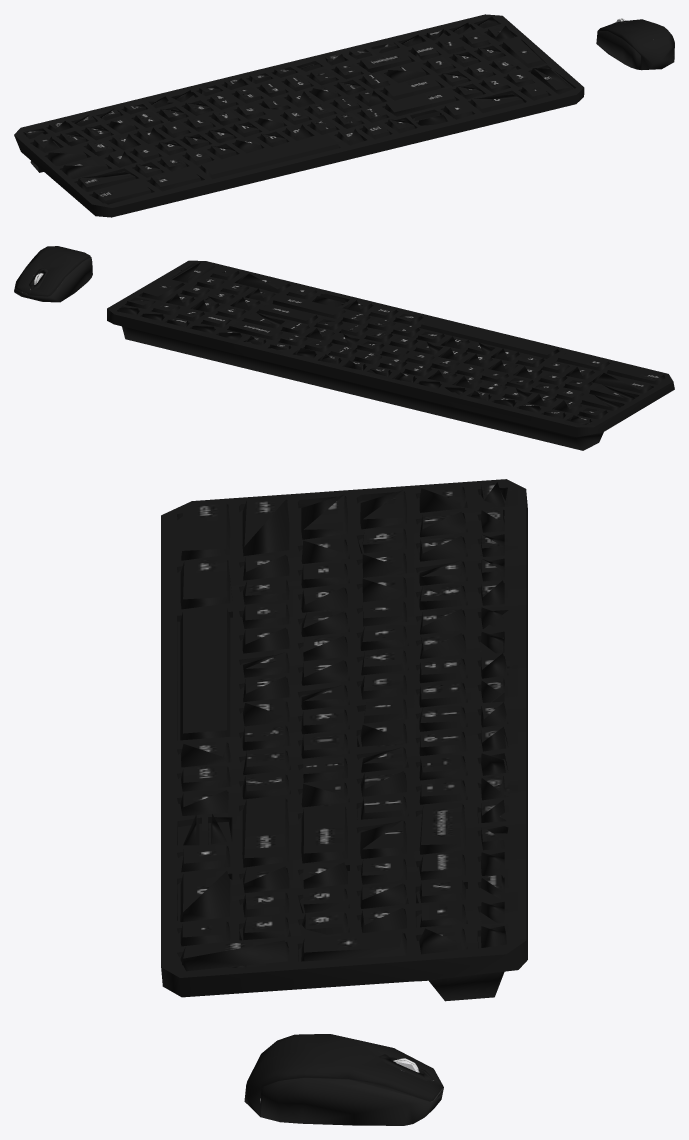
Rendered from keyboard_mouse_black.glb.
3 renders of one model, top to bottom at view 1: azimuth 30°, elevation 25°; view 2: azimuth 150°, elevation 25°; view 3: azimuth 270°, elevation 25°, orthographic. The views are drawn at different scales.
Visible parts, largest first — view 1: keyboard.001, mouse.001; view 2: keyboard.001, mouse.001; view 3: keyboard.001, mouse.001.
Part boxes in pixels (bbox=[...]): keyboard.001: bbox=[14, 14, 584, 217]; mouse.001: bbox=[596, 18, 674, 70]; keyboard.001: bbox=[107, 260, 674, 450]; mouse.001: bbox=[14, 246, 92, 302]; keyboard.001: bbox=[161, 479, 527, 1001]; mouse.001: bbox=[244, 1034, 443, 1125].
Size of the model in its own units: 0.4643 by 0.0233 by 0.1217.
2 materials, 2 textured.
